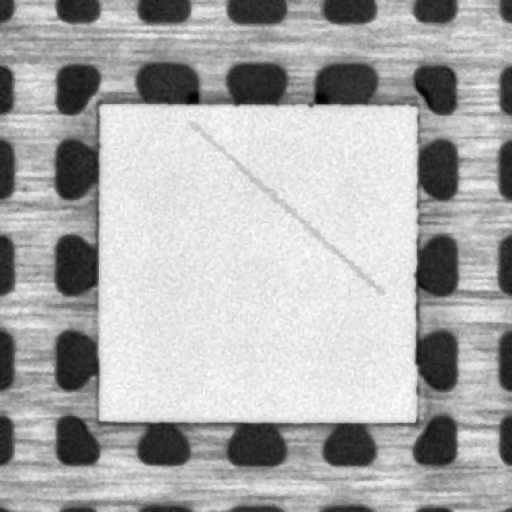DIE_CRACK: (189, 122, 380, 291)
